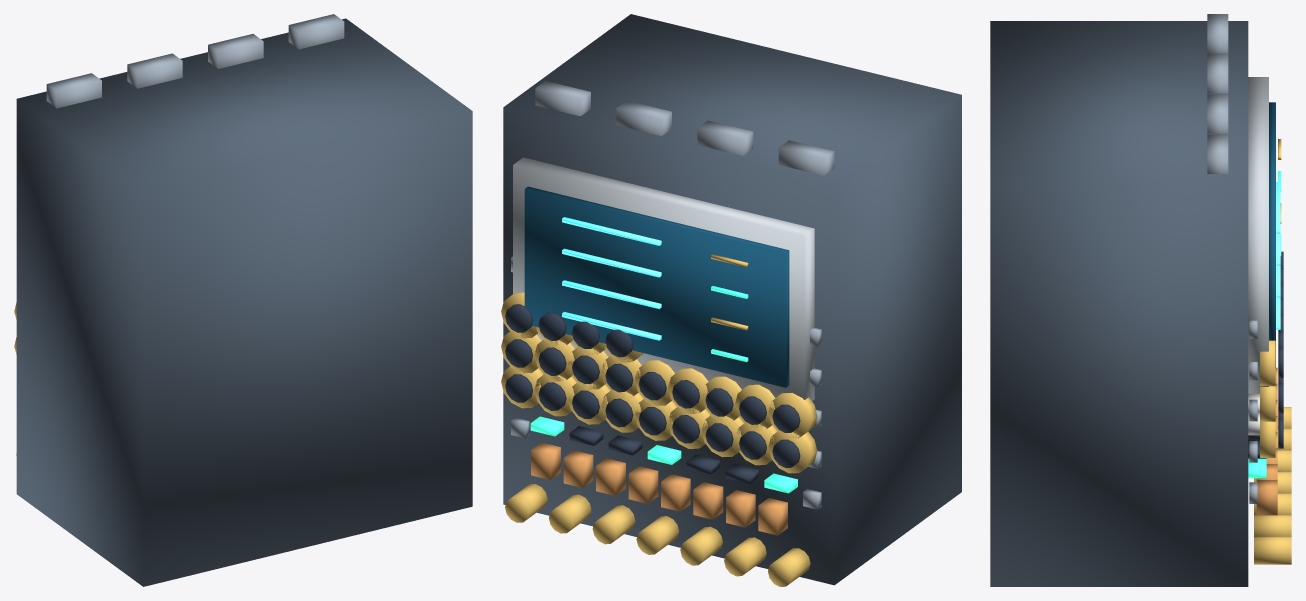
The model's file is L87_74_MagneticBearingControlPLC_Fitted.fbx.
3 views of the same model, side by side, from view 1: azimuth 30°, elevation 25°; view 2: azimuth 150°, elevation 25°; view 3: azimuth 270°, elevation 25° (orthographic).
Visible parts, largest first — view 1: L87_MagneticBearingControlPLC_Static__tint1A2430, L87_MagneticBearingControlPLC_Static__tint617387; view 2: L87_MagneticBearingControlPLC_Static__tint1A2430, L87_MagneticBearingControlPLC_Static__tint041F3B, L87_MagneticBearingControlPLC_Static__tintF5A62B, L87_MagneticBearingControlPLC_Static__tint0A0F1A, L87_MagneticBearingControlPLC_Static__tintB0BFCC, L87_MagneticBearingControlPLC_Static__tintD96621, L87_MagneticBearingControlPLC_Static__tint617387, L87_MagneticBearingControlPLC_Static__tint1CC7FF, L87_MagneticBearingControlPLC_Static__tint0FE88A; view 3: L87_MagneticBearingControlPLC_Static__tint1A2430, L87_MagneticBearingControlPLC_Static__tintB0BFCC, L87_MagneticBearingControlPLC_Static__tintF5A62B, L87_MagneticBearingControlPLC_Static__tint617387, L87_MagneticBearingControlPLC_Static__tint041F3B, L87_MagneticBearingControlPLC_Static__tintD96621, L87_MagneticBearingControlPLC_Static__tint0A0F1A, L87_MagneticBearingControlPLC_Static__tint1CC7FF, L87_MagneticBearingControlPLC_Static__tint0FE88A.
Part boxes in pixels (box(x1,y1,x2,y2)): L87_MagneticBearingControlPLC_Static__tint1A2430: box(16, 18, 472, 586); L87_MagneticBearingControlPLC_Static__tint617387: box(46, 14, 344, 108); L87_MagneticBearingControlPLC_Static__tint1A2430: box(503, 14, 961, 585); L87_MagneticBearingControlPLC_Static__tint041F3B: box(524, 186, 789, 387); L87_MagneticBearingControlPLC_Static__tintF5A62B: box(501, 254, 817, 586); L87_MagneticBearingControlPLC_Static__tint0A0F1A: box(505, 304, 800, 483); L87_MagneticBearingControlPLC_Static__tintB0BFCC: box(513, 157, 814, 400); L87_MagneticBearingControlPLC_Static__tintD96621: box(531, 442, 787, 535); L87_MagneticBearingControlPLC_Static__tint617387: box(511, 81, 834, 509); L87_MagneticBearingControlPLC_Static__tint1CC7FF: box(562, 217, 661, 340); L87_MagneticBearingControlPLC_Static__tint0FE88A: box(530, 286, 797, 493); L87_MagneticBearingControlPLC_Static__tint1A2430: box(990, 21, 1248, 586); L87_MagneticBearingControlPLC_Static__tintB0BFCC: box(1248, 77, 1268, 393); L87_MagneticBearingControlPLC_Static__tintF5A62B: box(1254, 139, 1291, 564); L87_MagneticBearingControlPLC_Static__tint617387: box(1207, 14, 1257, 503); L87_MagneticBearingControlPLC_Static__tint041F3B: box(1269, 102, 1275, 367); L87_MagneticBearingControlPLC_Static__tintD96621: box(1256, 367, 1277, 515); L87_MagneticBearingControlPLC_Static__tint0A0F1A: box(1248, 251, 1283, 458); L87_MagneticBearingControlPLC_Static__tint1CC7FF: box(1276, 182, 1280, 329); L87_MagneticBearingControlPLC_Static__tint0FE88A: box(1248, 171, 1281, 478).
Size of the model in its own units: 9.99 by 11.95 by 7.78.
